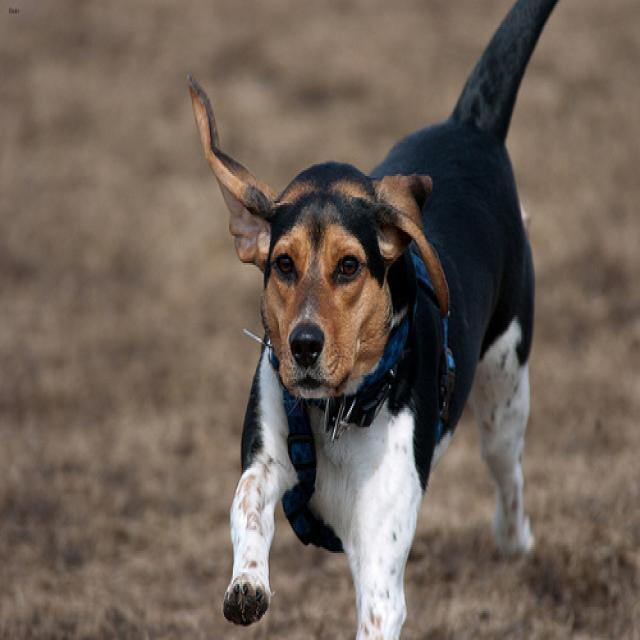dog-beagle: (177, 2, 572, 636)
